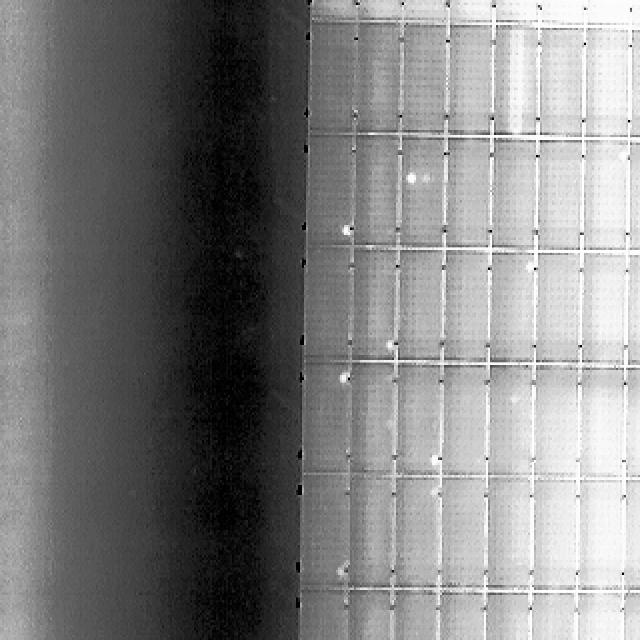Hotspots: (333, 366, 351, 388), (338, 218, 354, 241), (428, 445, 442, 470), (405, 168, 419, 190), (381, 337, 394, 359)
PV-modules: (580, 28, 630, 140), (358, 22, 407, 136), (298, 477, 346, 592), (304, 23, 353, 135), (396, 363, 444, 477), (578, 257, 626, 371), (578, 482, 626, 596), (437, 480, 486, 591), (487, 256, 536, 367), (482, 371, 530, 484), (576, 372, 624, 485), (580, 141, 628, 254), (440, 249, 488, 362), (357, 136, 404, 251), (348, 364, 396, 476), (491, 25, 539, 137), (397, 248, 445, 360), (490, 140, 538, 252), (535, 371, 582, 485), (352, 474, 399, 588), (394, 479, 442, 590), (401, 24, 448, 136), (540, 140, 586, 254), (350, 247, 396, 361), (306, 246, 352, 360), (440, 371, 486, 484), (537, 257, 583, 370), (308, 137, 354, 250), (299, 365, 346, 475), (486, 480, 532, 592), (398, 140, 444, 252), (444, 140, 488, 256), (541, 27, 586, 140), (533, 482, 579, 592), (445, 25, 490, 136), (384, 591, 485, 640), (297, 591, 347, 640), (345, 591, 393, 640), (392, 591, 439, 640), (576, 594, 625, 640), (437, 593, 484, 640), (530, 594, 577, 640), (596, 592, 640, 640), (483, 595, 529, 640), (622, 480, 640, 592), (624, 255, 640, 367), (628, 373, 640, 485), (540, 0, 586, 28), (580, 0, 630, 25), (492, 0, 538, 25), (402, 0, 448, 25), (444, 0, 490, 25), (354, 0, 404, 22), (312, 0, 358, 20), (632, 143, 640, 255), (622, 592, 640, 638), (634, 28, 640, 140), (636, 0, 640, 25)
